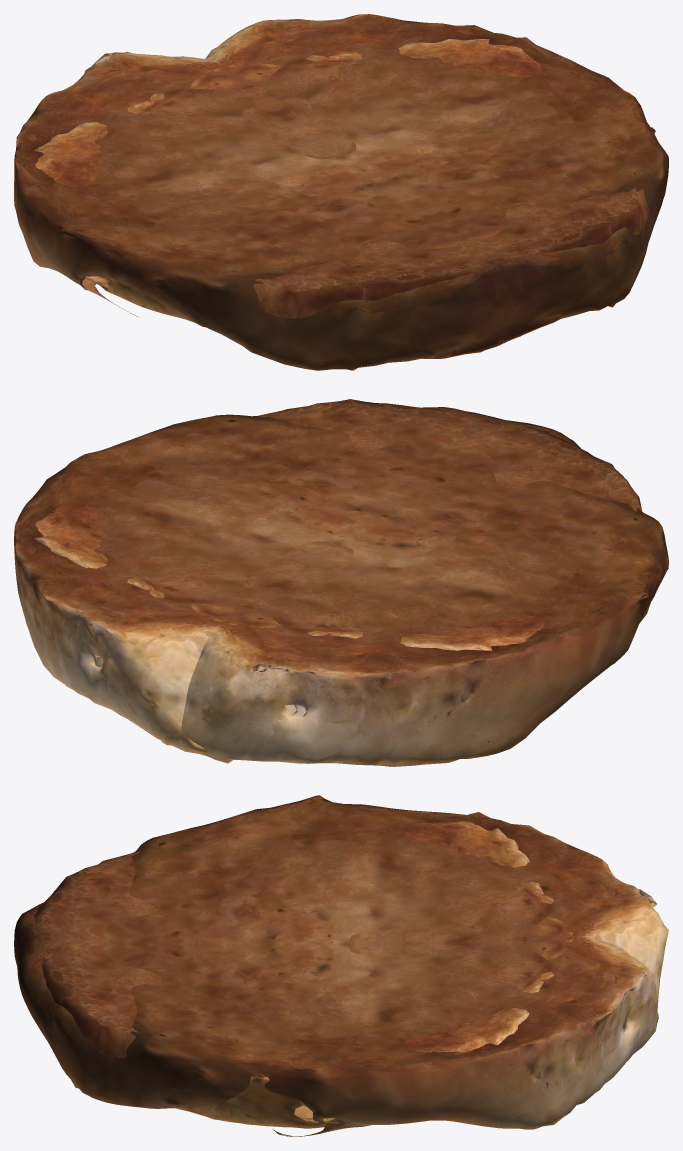
File: булка4 (1).glb
3 views of the same model, one above another, from view 1: azimuth 30°, elevation 25°; view 2: azimuth 150°, elevation 25°; view 3: azimuth 270°, elevation 25° (orthographic). The views are drawn at different scales.
Visible parts, largest first — view 1: 3DModel_LowPoly; view 2: 3DModel_LowPoly; view 3: 3DModel_LowPoly.
Boxes of the visible parts, x1,y1,x2,y2 form: 3DModel_LowPoly: (14, 14, 668, 370); 3DModel_LowPoly: (14, 399, 668, 766); 3DModel_LowPoly: (14, 795, 668, 1136).
Bounding box in the file's own units: 0.8401 × 0.1582 × 0.8462.
1 material, 1 textured.
